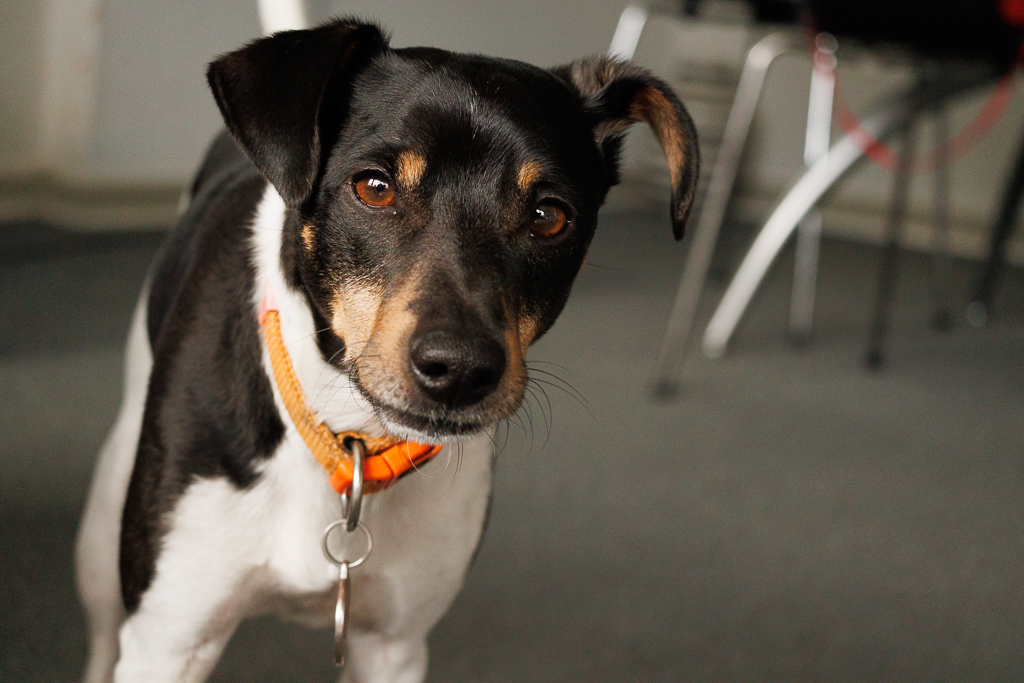Dog: (54, 0, 714, 683)
